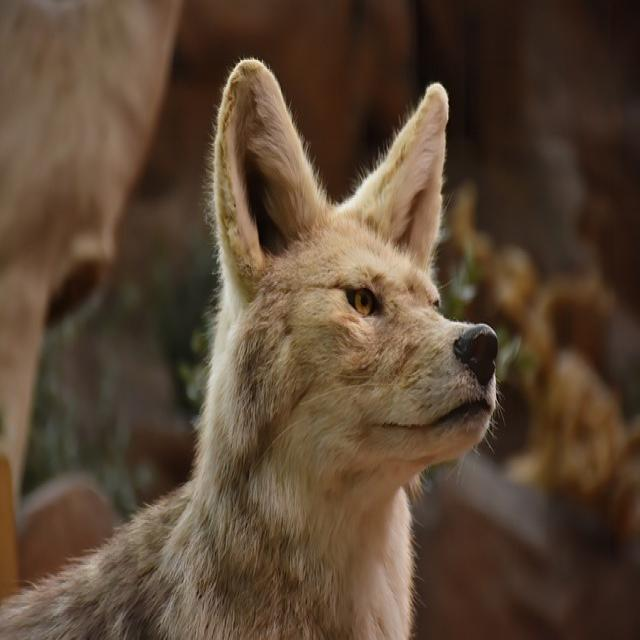Carnivorous: (0, 58, 500, 640)
